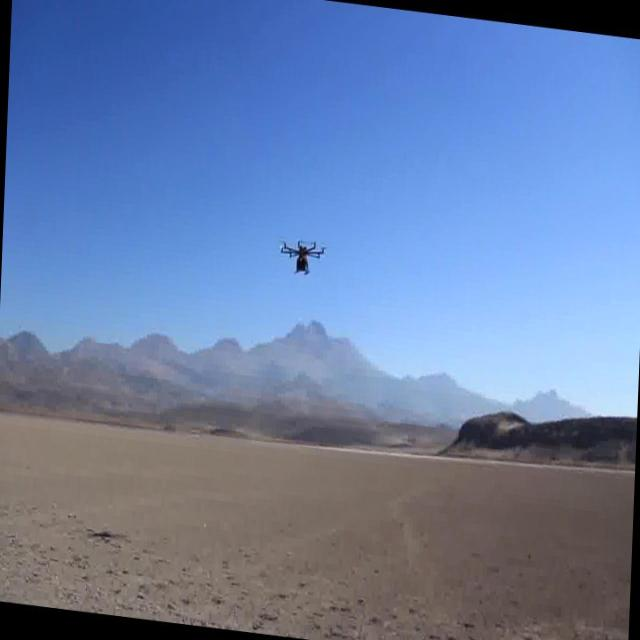drone: (276, 229, 328, 280)
